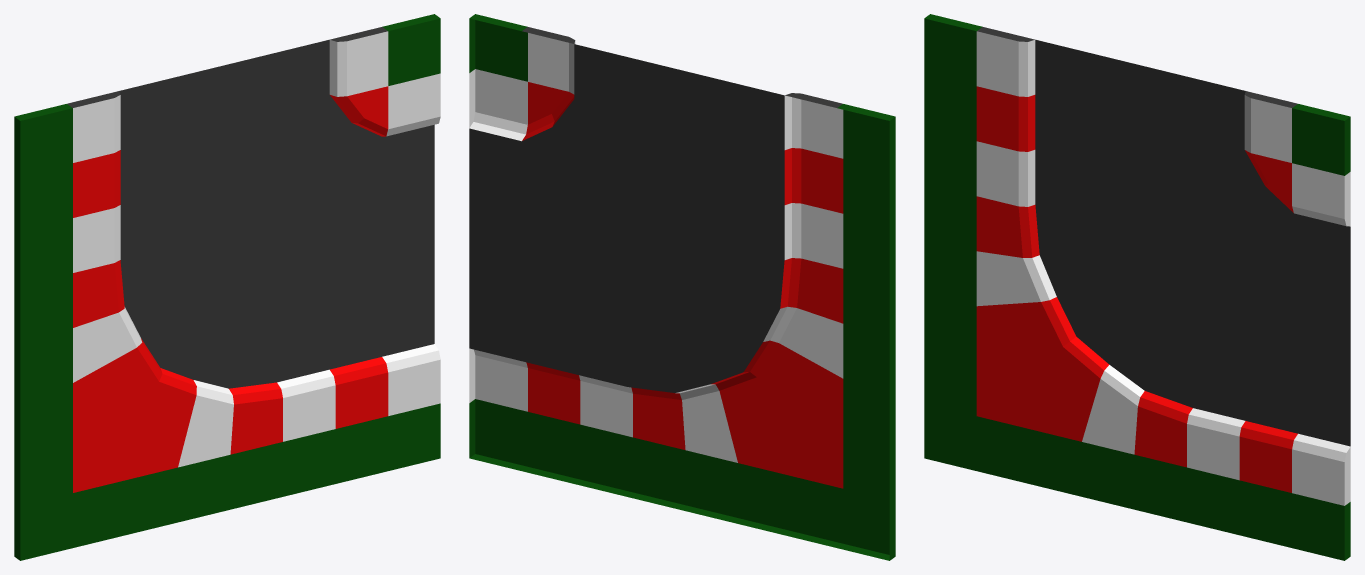
The model's file is Turn.obj.
The picture shows the model from 3 angles, left to right: view 1: azimuth 30°, elevation 25°; view 2: azimuth 150°, elevation 25°; view 3: azimuth 330°, elevation 25°; orthographic projection.
Visible parts, largest first — view 1: Plane; view 2: Plane; view 3: Plane.
Part boxes in pixels (x1,y1,x2,y2): Plane: [14, 14, 440, 560]; Plane: [469, 14, 895, 560]; Plane: [924, 14, 1350, 560].
Size of the model in its own units: 2 by 2 by 0.05.
